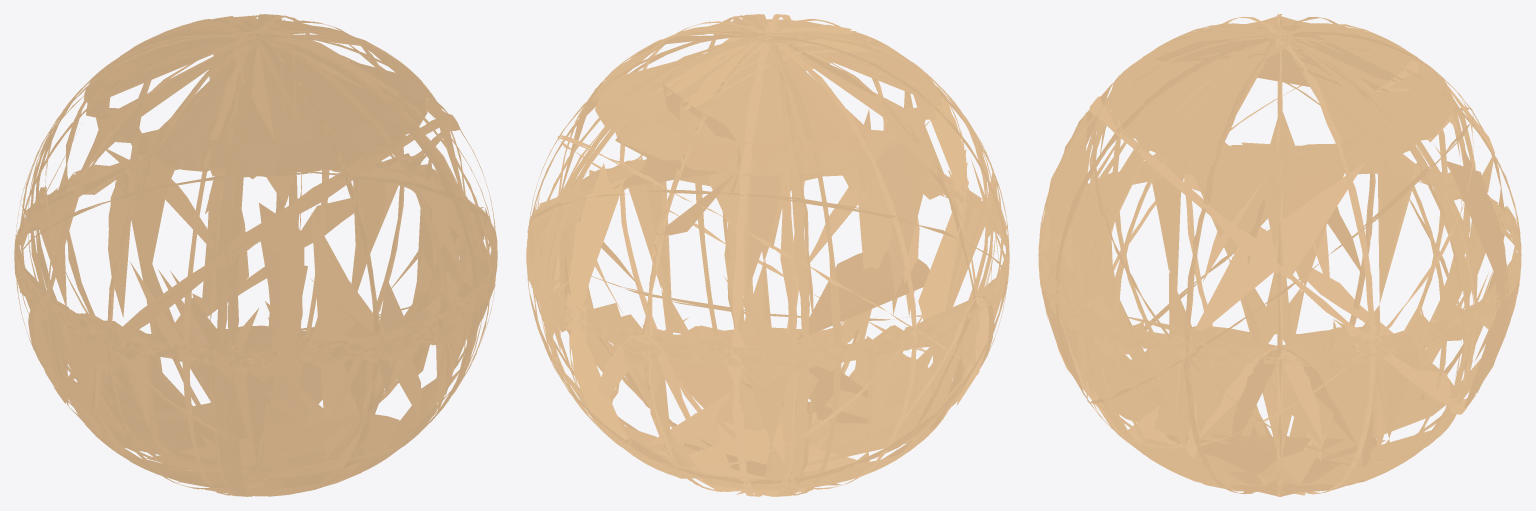
The picture shows the model from 3 angles, left to right: view 1: azimuth 30°, elevation 25°; view 2: azimuth 150°, elevation 25°; view 3: azimuth 270°, elevation 25°; orthographic projection.
Visible parts, largest first — view 1: conductor_guide; view 2: conductor_guide; view 3: conductor_guide.
Part boxes in pixels (bbox=[...]): conductor_guide: bbox=[14, 14, 497, 496]; conductor_guide: bbox=[526, 14, 1009, 496]; conductor_guide: bbox=[1038, 14, 1521, 496].
Bounding box in the file's own units: 2 × 2 × 2.
